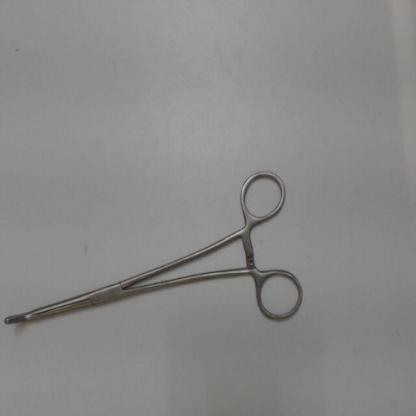Lahey Forceps: (1, 163, 311, 333)
